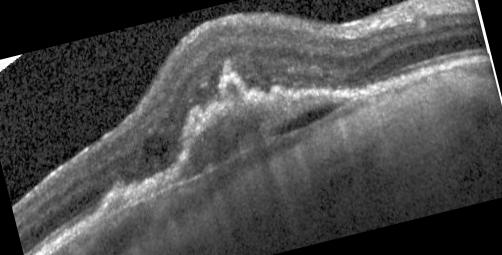intraretinal_cyst: (143, 133, 168, 158)
subretinal_fluid: (279, 102, 333, 133)
subretinal_hyperreflective_material: (97, 70, 372, 217)
